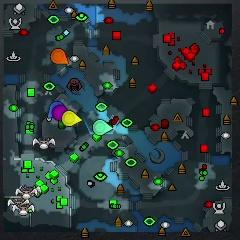p1: (49, 101, 63, 118)
p2: (93, 119, 112, 135)
p3: (53, 105, 68, 121)
p4: (63, 110, 82, 126)
p5: (51, 48, 69, 65)
